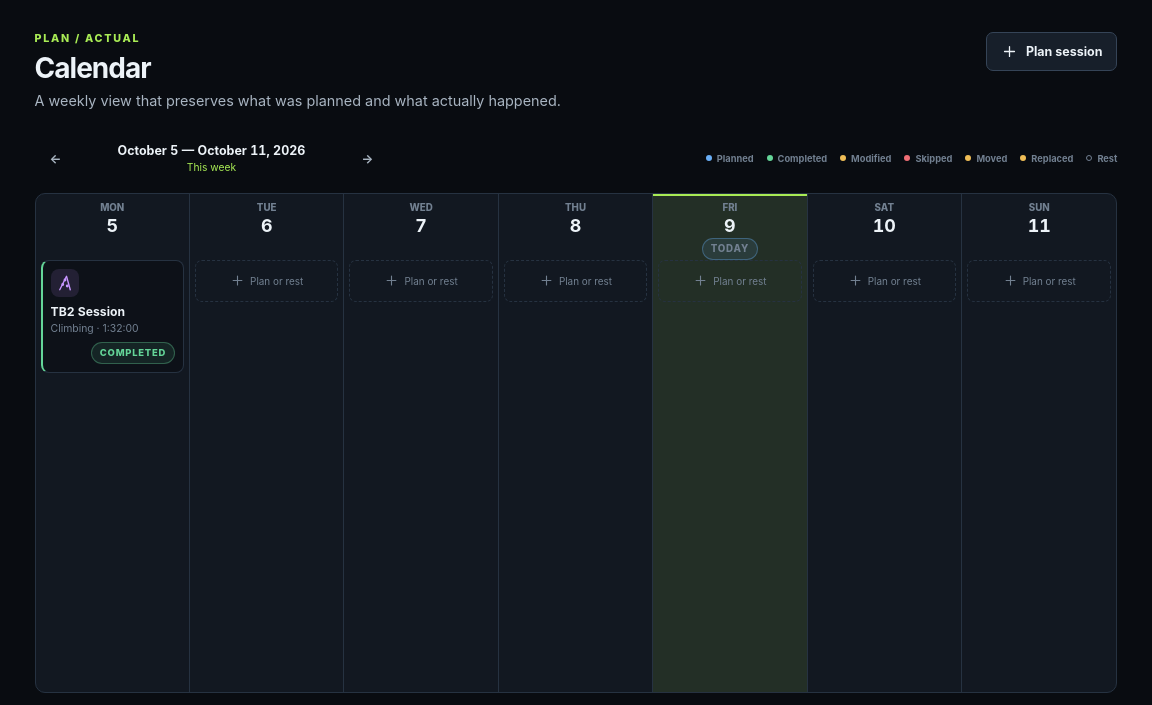
Test: calendar planning › shows completed climbing attempts as a readable table
Click the text "TB2 Session".
click(112, 316)  # box [40,260,184,372]
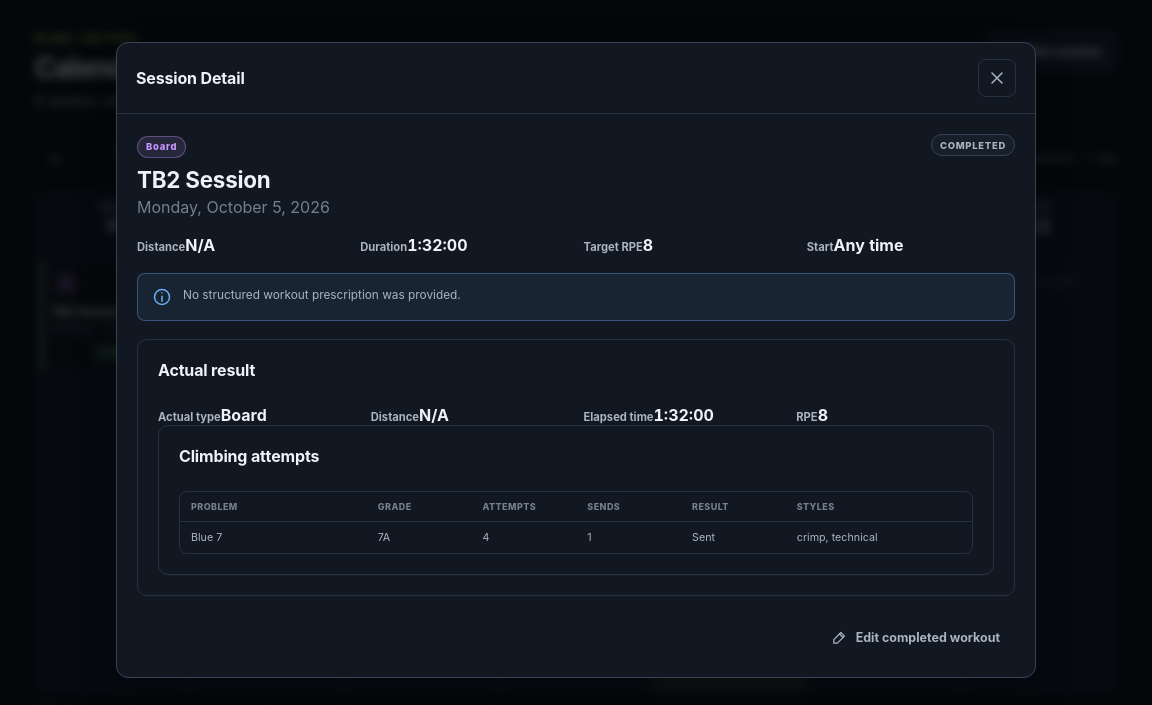
Now the heading "Climbing attempts" is shown, box [179,446,319,466]
Now the text "Blue 7" is shown, box [191,531,222,544]
Now the text "7A" is shown, box [378,531,390,544]
